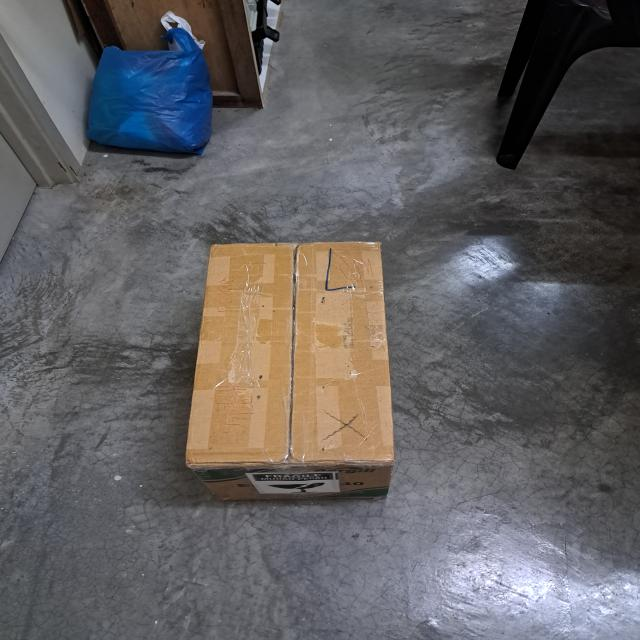cardboard: (180, 240, 393, 501)
plastic bag: (84, 30, 214, 154)
